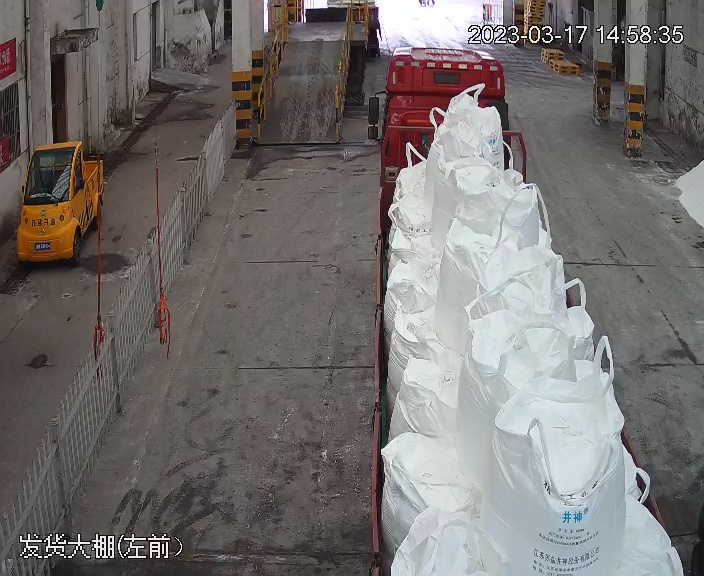people: (691, 466, 704, 576)
truck: (357, 44, 693, 572)
